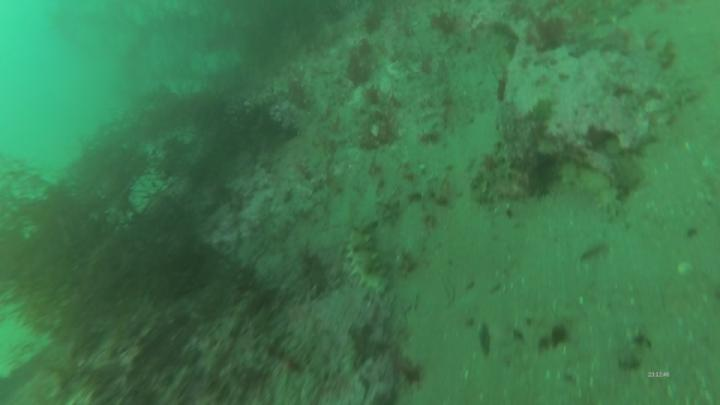holothurian: (343, 223, 396, 298)
waterweeds: (1, 85, 230, 332)
